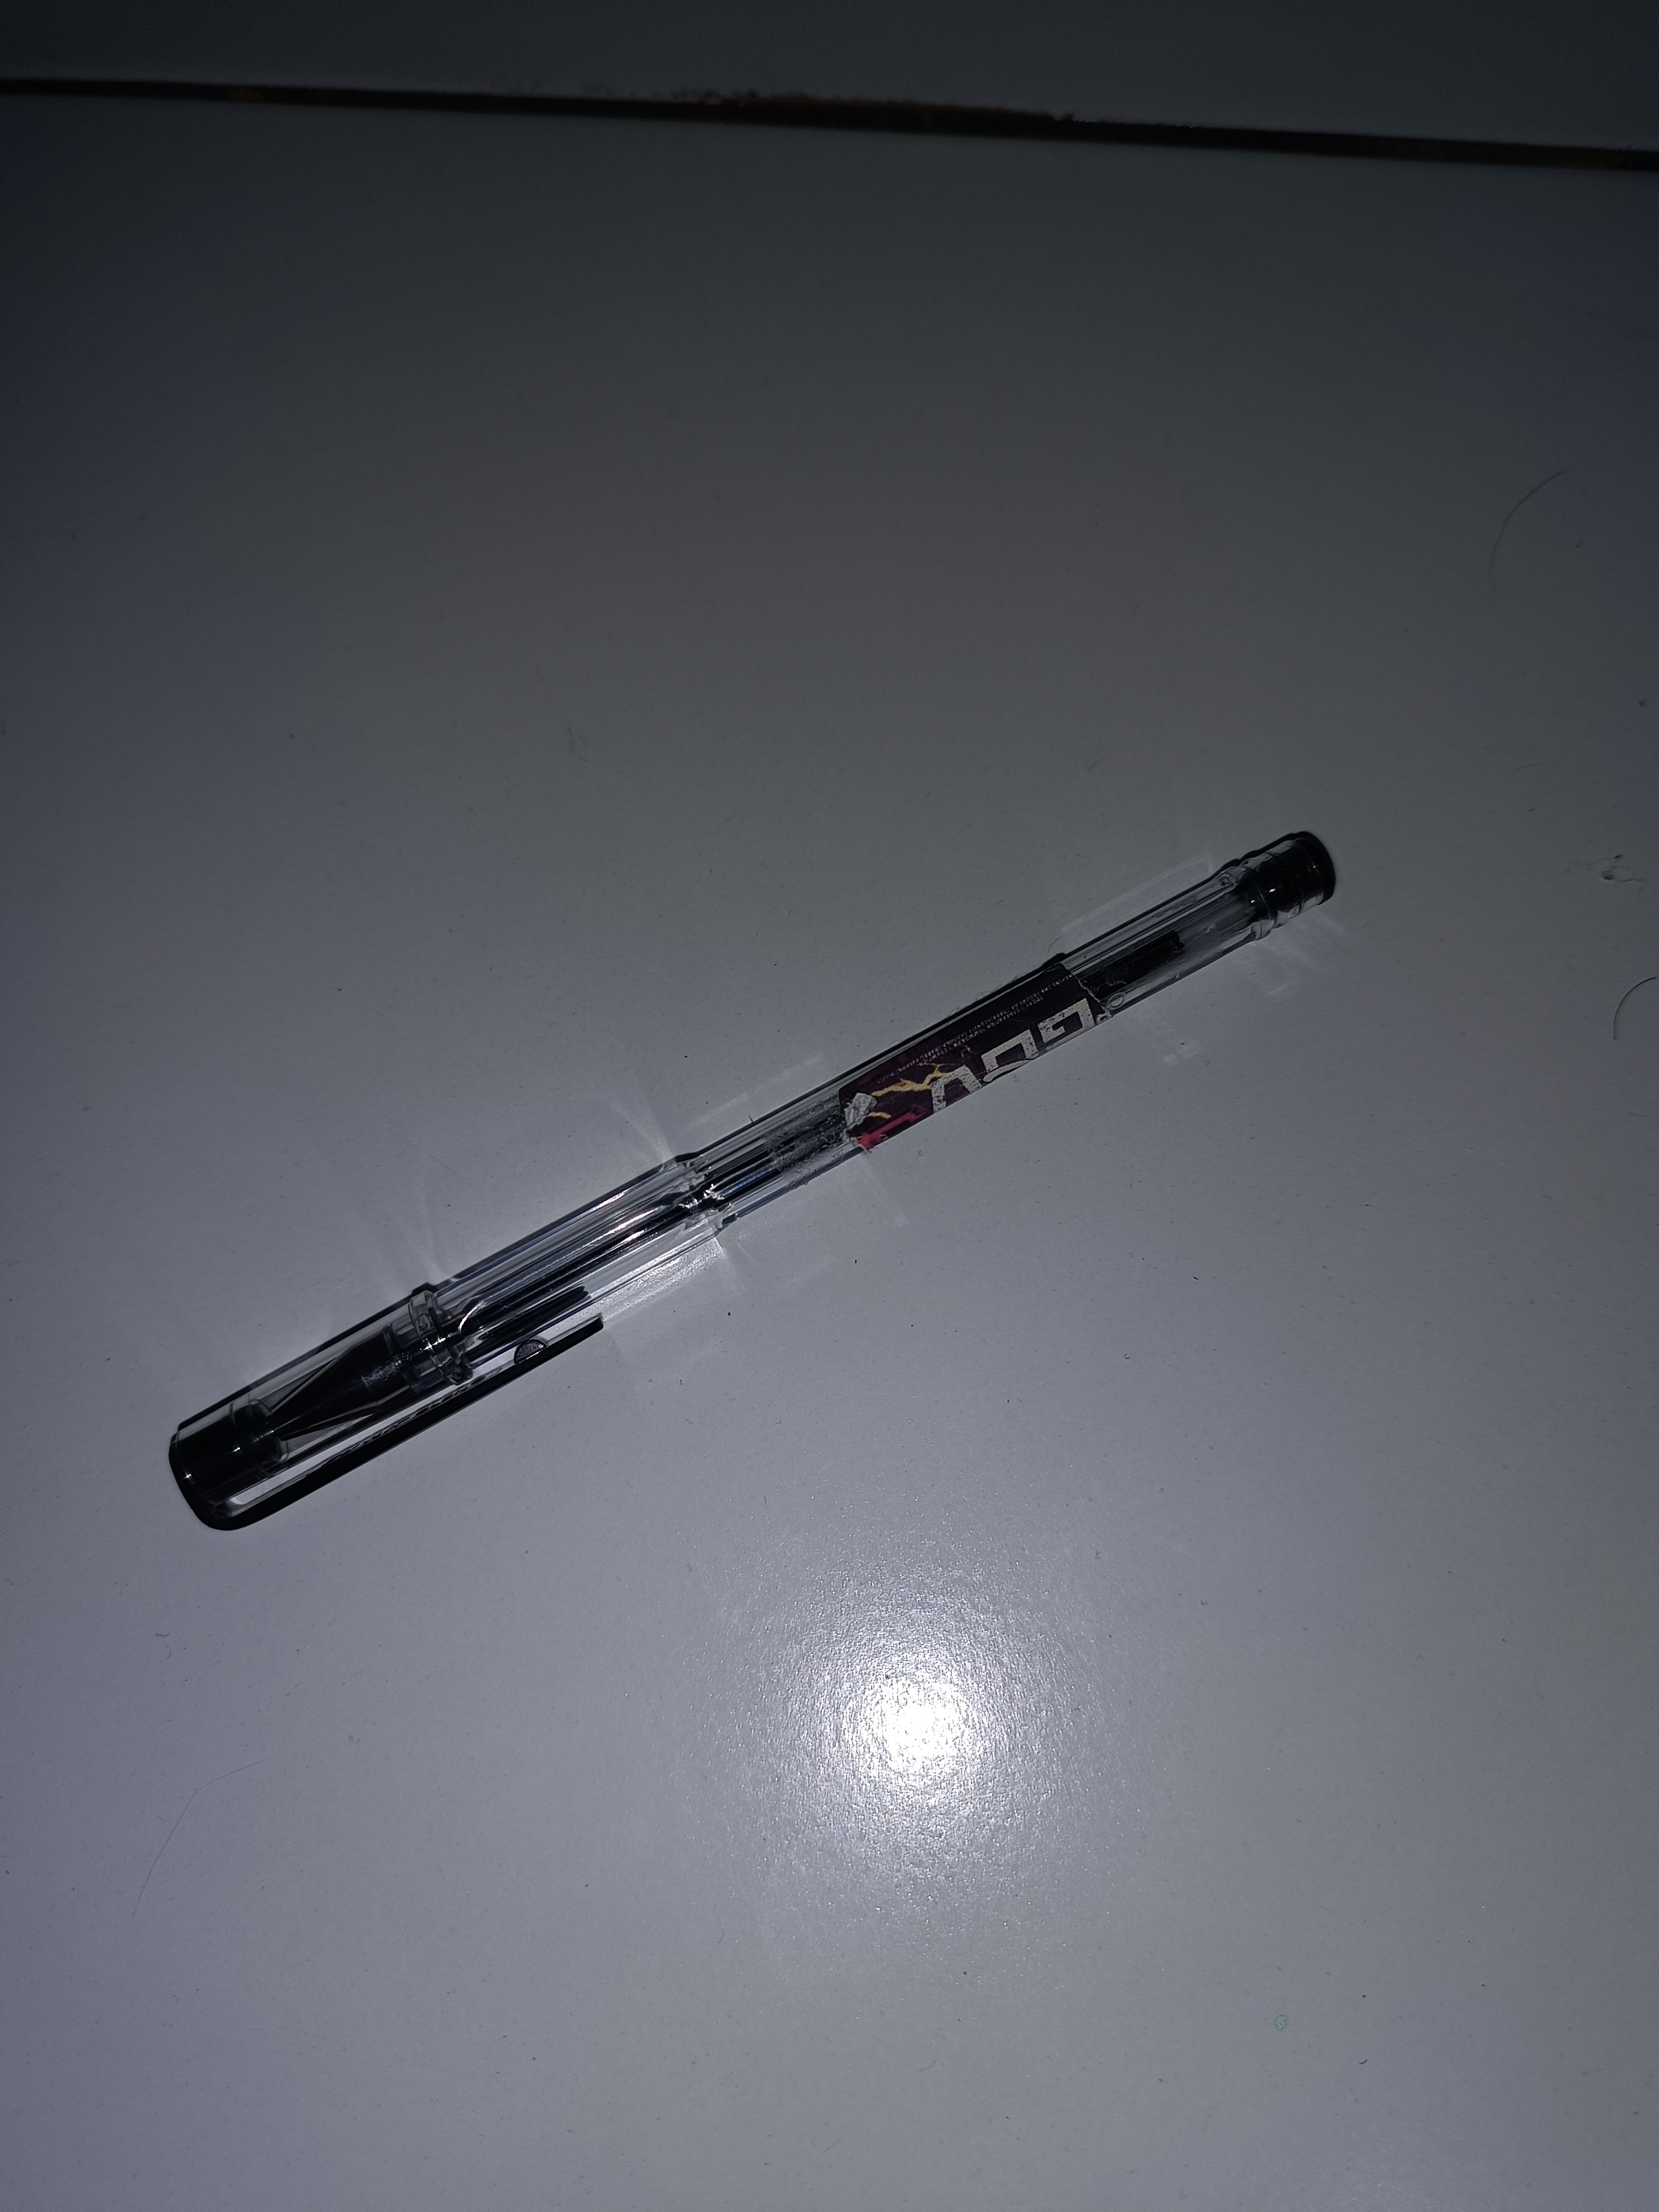Pen: (85, 752, 1361, 1615)
